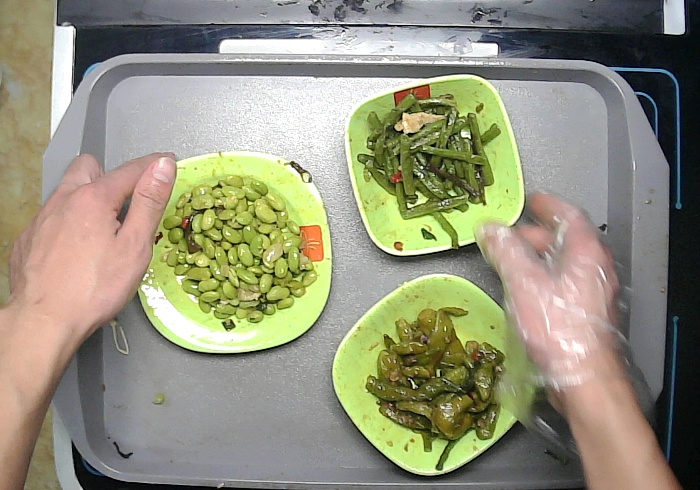SHKJ-Lv_Se_Cai_Die: (331, 274, 536, 476)
SHKJ-Lv_Se_Si_Fang_Cai_Die: (135, 151, 333, 354)
SHKJ-Lv_Se_Xiao_Fang_Die: (344, 75, 524, 257)
